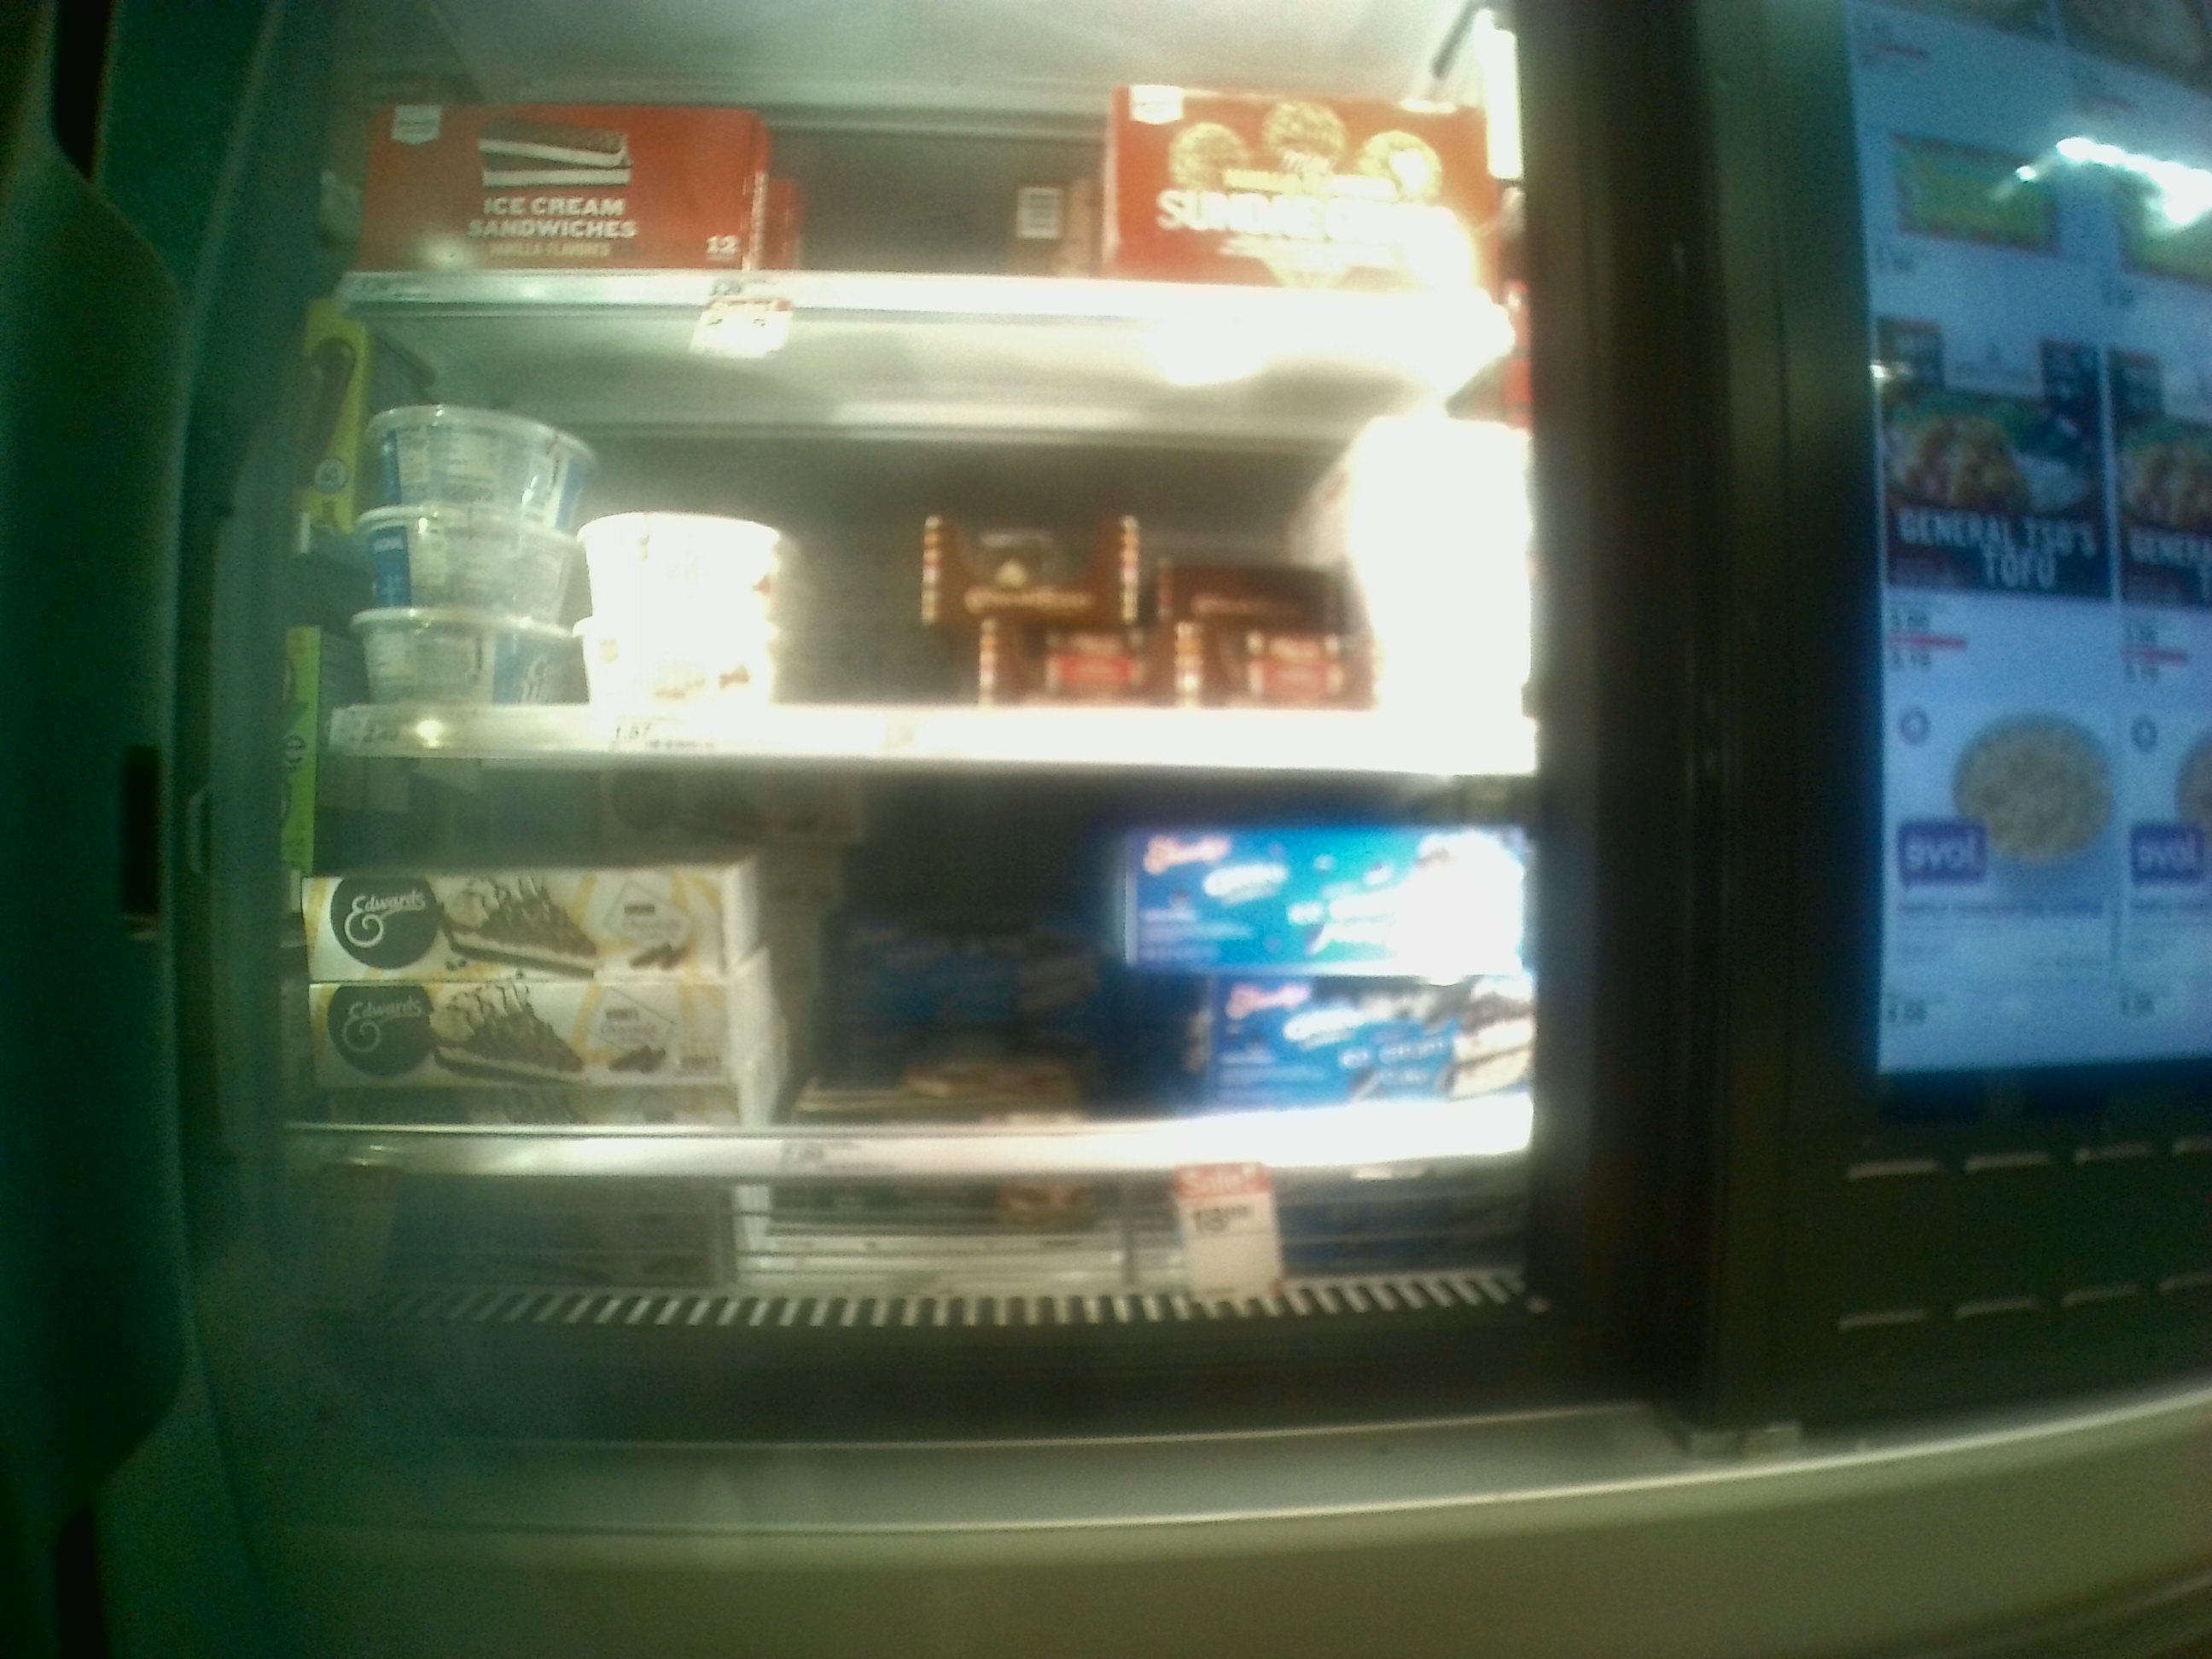frozen-food-shelf: (256, 777, 1554, 1162)
